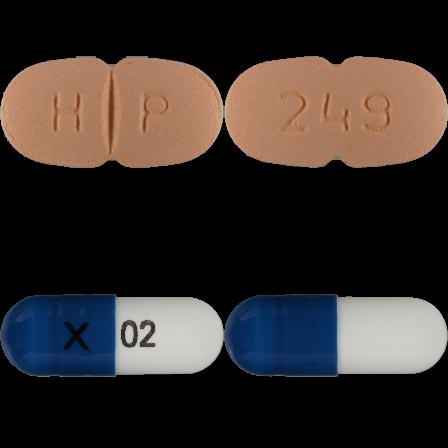61786-566: (0, 0, 224, 224)
